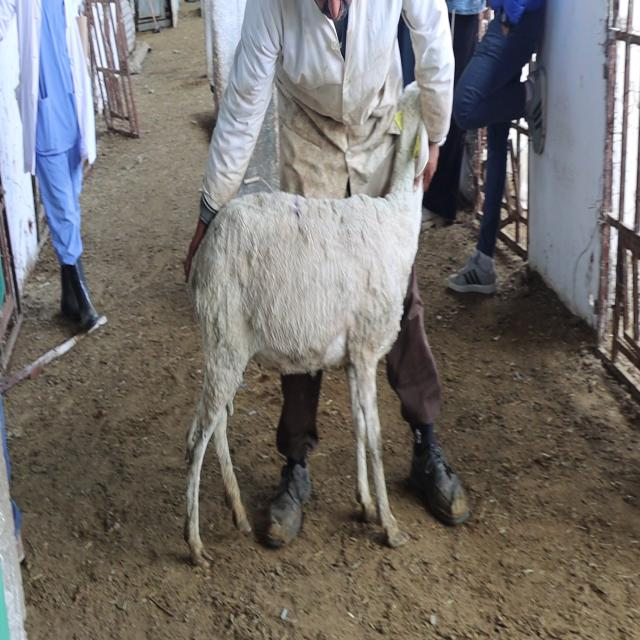Score_1: (185, 81, 429, 562)
